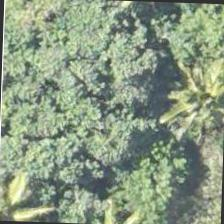Kelapa_Sawit: (165, 48, 223, 141)
